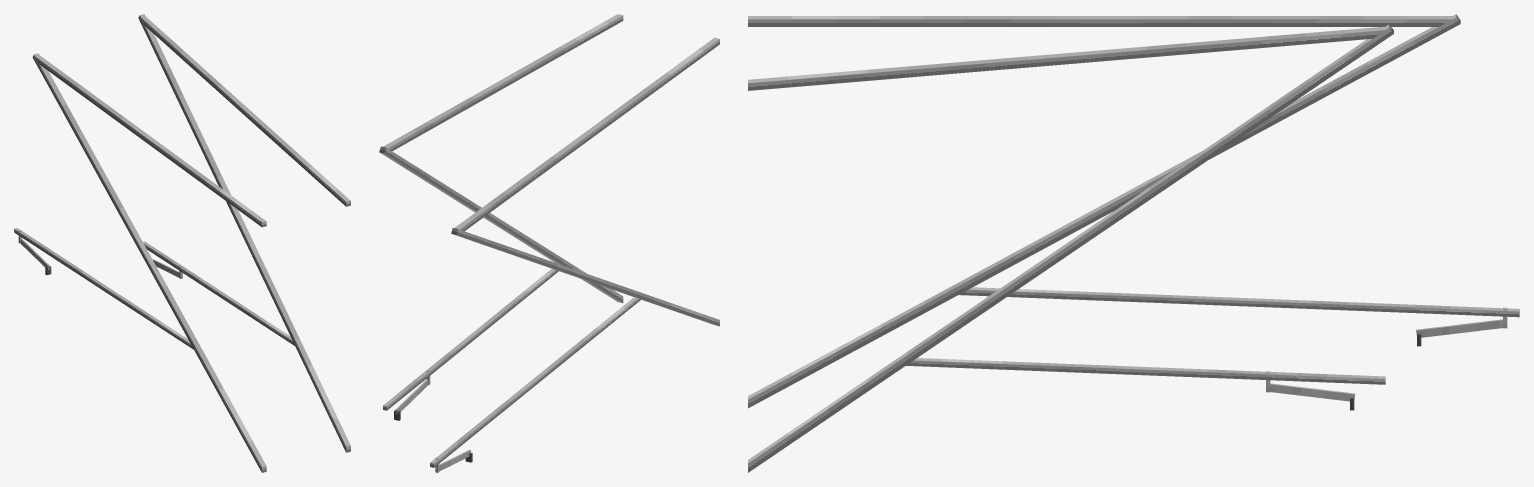
The model's file is cantilever_center_8px.obj.
3 renders of one model, left to right at view 1: azimuth 30°, elevation 25°; view 2: azimuth 150°, elevation 25°; view 3: azimuth 270°, elevation 25°, orthographic. The views are drawn at different scales.
Parts seen in each view (by area): view 1: 34ae32b2-56c0-4a4b-84ed-1f9c712f7555, 7a66213f-42ad-41c7-83b2-f4c5657ab21c, b02b0b3d-7a8b-4d96-a22a-fc0577941476, 7db53a91-899e-45d8-b495-c3a01c7beebc, da606b5f-8733-489b-a3b2-3806a59f2712, bf1130d4-540f-4baf-ace5-ba1f49a89b5a; view 2: b02b0b3d-7a8b-4d96-a22a-fc0577941476, 7db53a91-899e-45d8-b495-c3a01c7beebc, 34ae32b2-56c0-4a4b-84ed-1f9c712f7555, 7a66213f-42ad-41c7-83b2-f4c5657ab21c, da606b5f-8733-489b-a3b2-3806a59f2712, bf1130d4-540f-4baf-ace5-ba1f49a89b5a; view 3: 7a66213f-42ad-41c7-83b2-f4c5657ab21c, 34ae32b2-56c0-4a4b-84ed-1f9c712f7555, b02b0b3d-7a8b-4d96-a22a-fc0577941476, 7db53a91-899e-45d8-b495-c3a01c7beebc, da606b5f-8733-489b-a3b2-3806a59f2712, bf1130d4-540f-4baf-ace5-ba1f49a89b5a, 00f87916-8b51-47bf-9b2f-92ccdf49831e, 0ca3d14c-71a1-426c-97f5-50917c755d2d.
Boxes of the visible parts, x1,y1,x2,y2 form: 34ae32b2-56c0-4a4b-84ed-1f9c712f7555: (32, 53, 266, 472); 7a66213f-42ad-41c7-83b2-f4c5657ab21c: (138, 14, 350, 452); b02b0b3d-7a8b-4d96-a22a-fc0577941476: (35, 55, 266, 227); 7db53a91-899e-45d8-b495-c3a01c7beebc: (141, 16, 350, 206); da606b5f-8733-489b-a3b2-3806a59f2712: (14, 228, 193, 349); bf1130d4-540f-4baf-ace5-ba1f49a89b5a: (143, 241, 294, 345); b02b0b3d-7a8b-4d96-a22a-fc0577941476: (454, 37, 719, 231); 7db53a91-899e-45d8-b495-c3a01c7beebc: (383, 14, 623, 151); 34ae32b2-56c0-4a4b-84ed-1f9c712f7555: (451, 228, 719, 326); 7a66213f-42ad-41c7-83b2-f4c5657ab21c: (379, 146, 623, 303); da606b5f-8733-489b-a3b2-3806a59f2712: (430, 297, 641, 467); bf1130d4-540f-4baf-ace5-ba1f49a89b5a: (383, 269, 558, 410); 7a66213f-42ad-41c7-83b2-f4c5657ab21c: (748, 24, 1393, 472); 34ae32b2-56c0-4a4b-84ed-1f9c712f7555: (748, 14, 1460, 408); b02b0b3d-7a8b-4d96-a22a-fc0577941476: (748, 16, 1452, 26); 7db53a91-899e-45d8-b495-c3a01c7beebc: (748, 26, 1385, 90); da606b5f-8733-489b-a3b2-3806a59f2712: (959, 287, 1519, 317); bf1130d4-540f-4baf-ace5-ba1f49a89b5a: (906, 358, 1385, 384); 00f87916-8b51-47bf-9b2f-92ccdf49831e: (1416, 319, 1502, 337); 0ca3d14c-71a1-426c-97f5-50917c755d2d: (1270, 383, 1355, 401).
Bounding box in the file's own units: 1.19 × 3.66 × 5.75.
